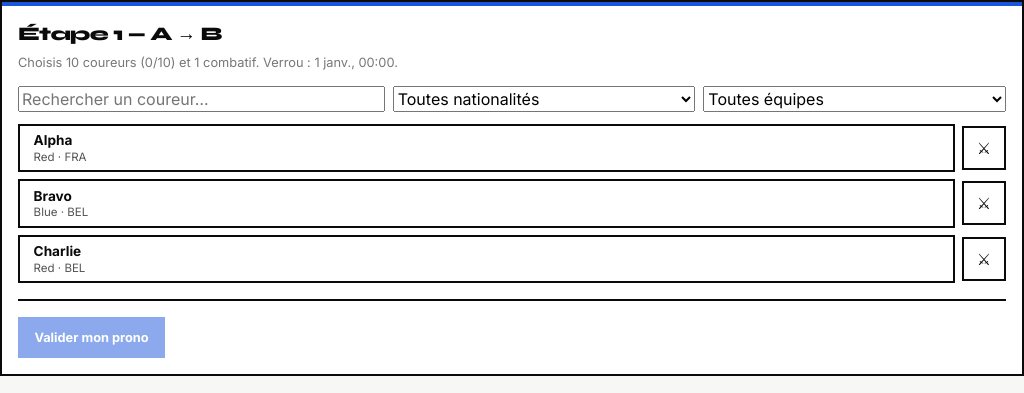
Scenario: StagePrediction › filtre la liste avec la recherche par nom
Expected: the button "Alpha Red · FRA" is shown, [18, 124, 955, 172]
In the search field labelled "Rechercher un coureur…": (201, 99) [18, 86, 385, 112], type "brav"
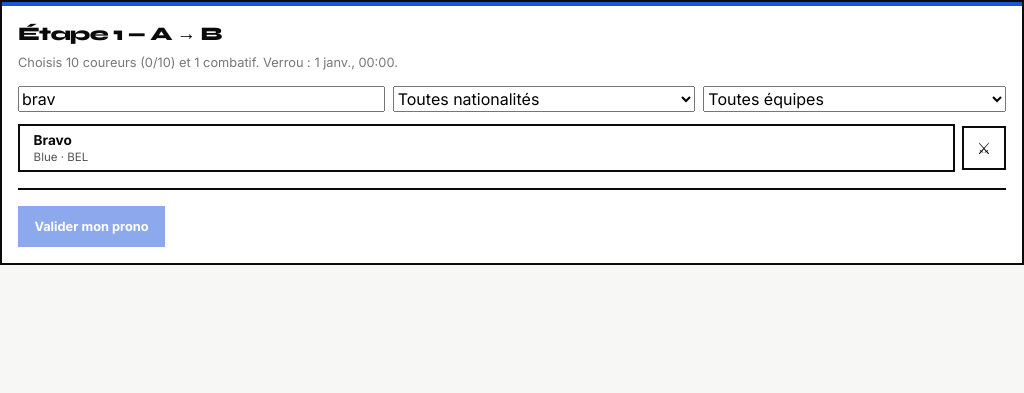
Expected: the button "Bravo Blue · BEL" is shown, [18, 124, 955, 172]
Now the button "Alpha" is gone
Now the button "Charlie" is gone
